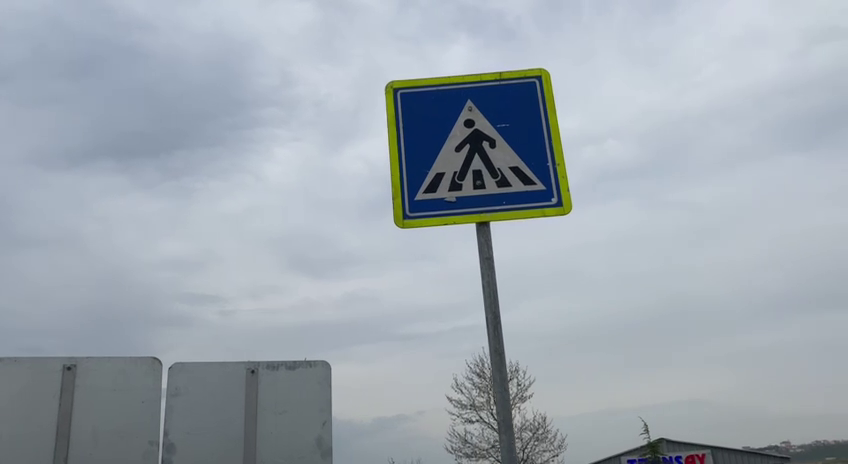pedestrianCrossing: (382, 65, 573, 233)
